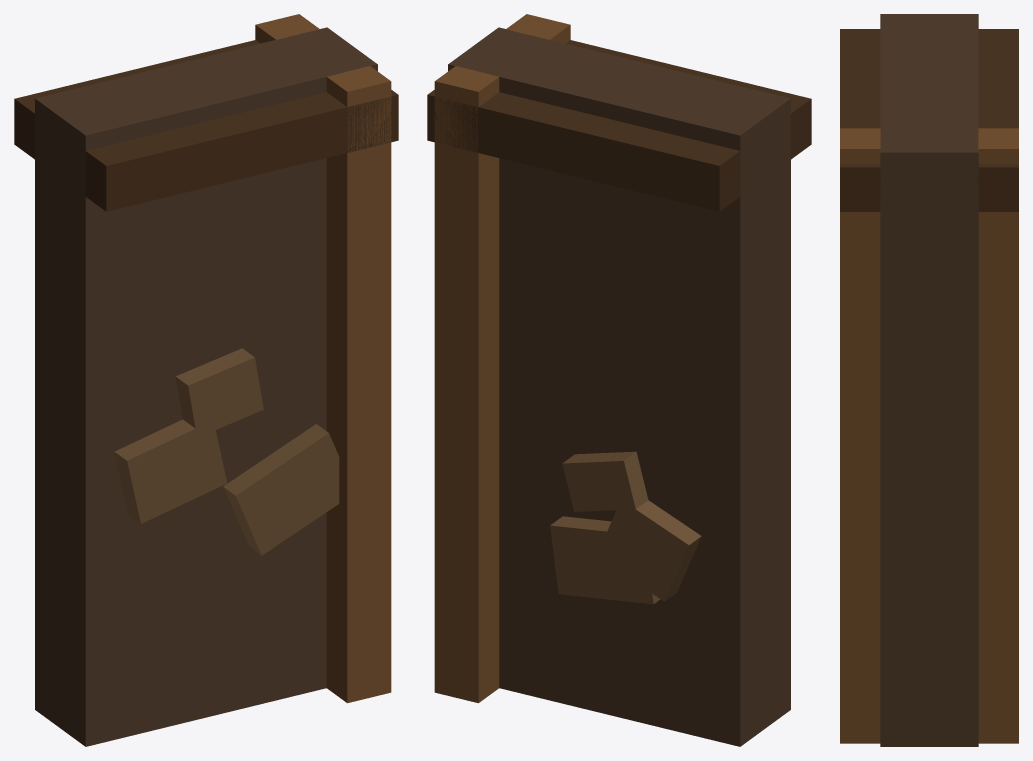
Rendered from wall_2m.glb.
The picture shows the model from 3 angles, left to right: view 1: azimuth 30°, elevation 25°; view 2: azimuth 150°, elevation 25°; view 3: azimuth 270°, elevation 25°; orthographic projection. The views are drawn at different scales.
Parts seen in each view (by area): view 1: wall_2m; view 2: wall_2m; view 3: wall_2m.
Boxes of the visible parts, x1,y1,x2,y2 form: wall_2m: [14, 14, 398, 746]; wall_2m: [427, 14, 811, 746]; wall_2m: [840, 14, 1018, 746].
Size of the model in its own units: 2 by 4 by 1.09.
Materials: 1 (1 with a texture image).
